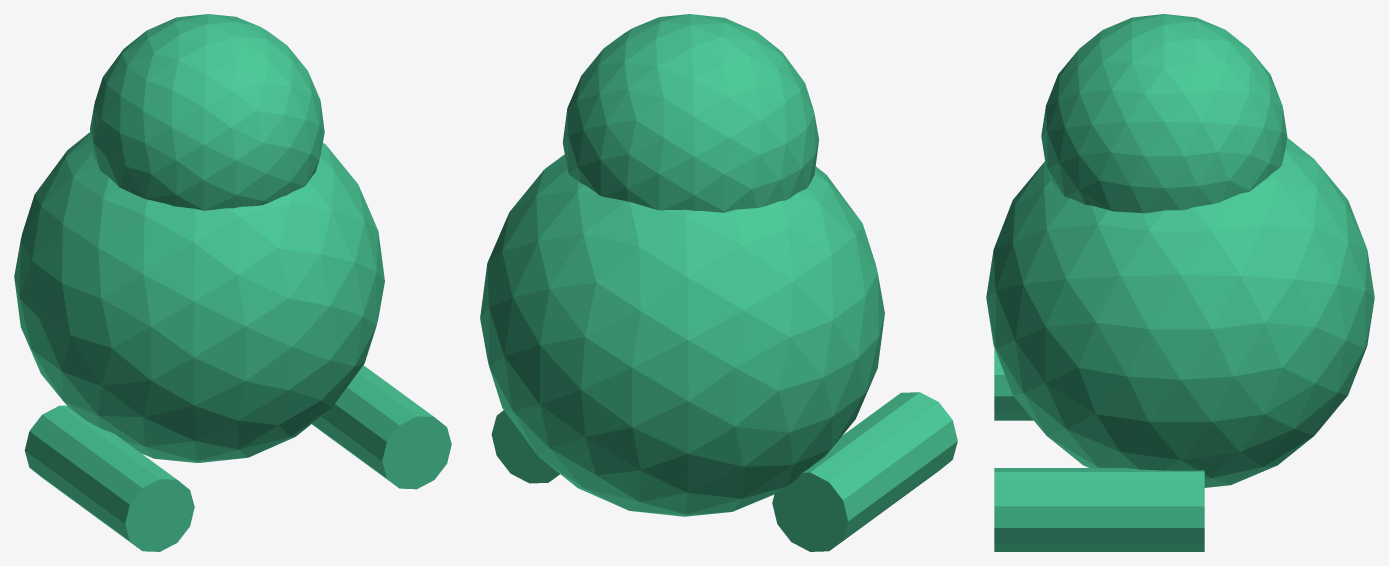
The model's file is nature_158.glb.
3 views of the same model, side by side, from view 1: azimuth 30°, elevation 25°; view 2: azimuth 150°, elevation 25°; view 3: azimuth 270°, elevation 25° (orthographic). The views are drawn at different scales.
Visible parts, largest first — view 1: world; view 2: world; view 3: world.
Part boxes in pixels (bbox=[...]): world: bbox=[14, 14, 451, 551]; world: bbox=[480, 14, 957, 551]; world: bbox=[986, 14, 1374, 551].
Size of the model in its own units: 1.22 by 1.56 by 1.2.
